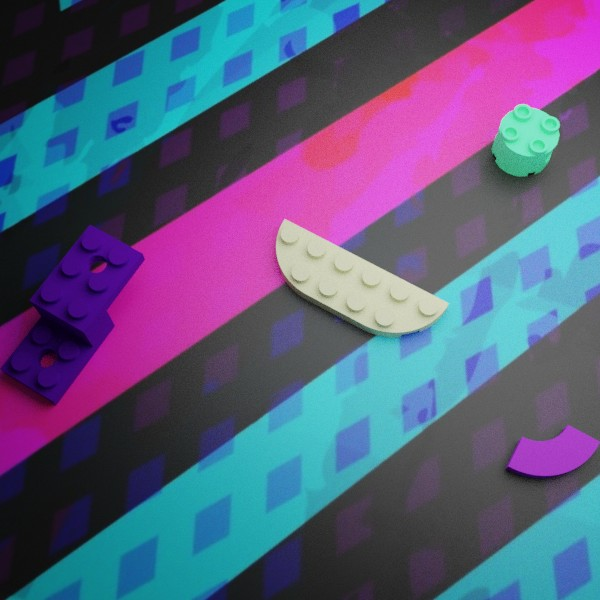lego: (0, 224, 145, 405), (276, 218, 449, 337), (505, 424, 600, 478), (491, 104, 559, 176)
